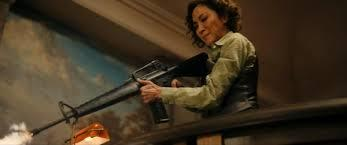rifle: (24, 48, 211, 145)
